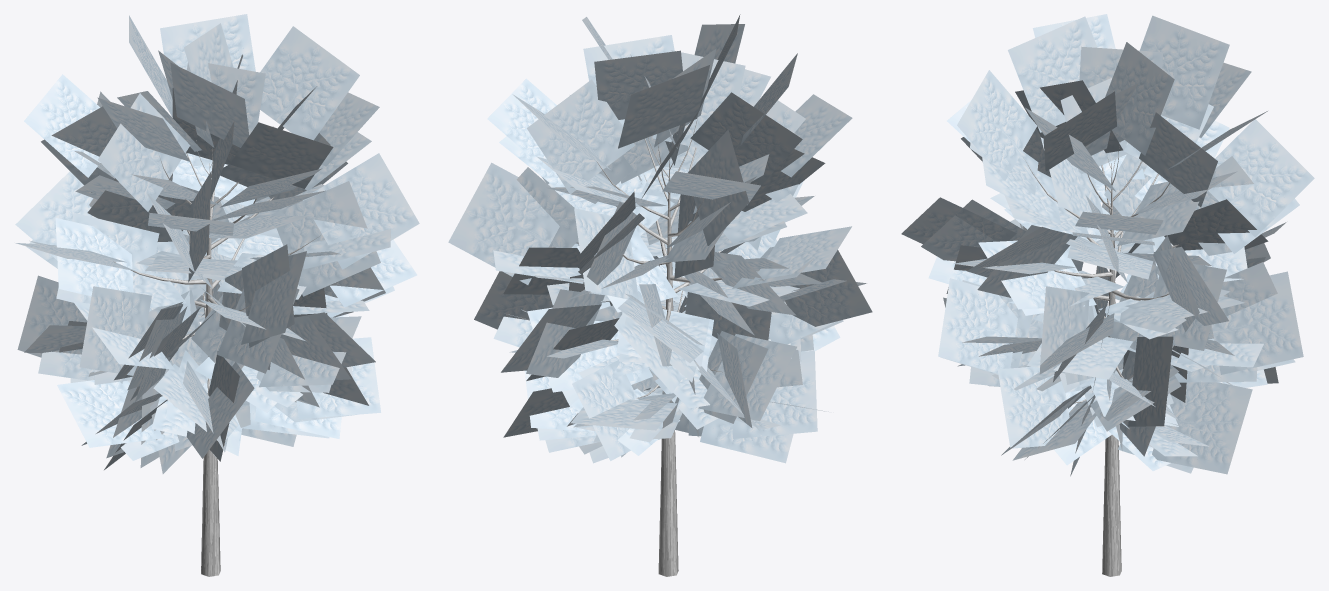
The model's file is Nature_tree01c.fbx.
3 renders of one model, left to right at view 1: azimuth 30°, elevation 25°; view 2: azimuth 150°, elevation 25°; view 3: azimuth 270°, elevation 25°, orthographic. The views are drawn at different scales.
Parts seen in each view (by area): view 1: leaves, tree; view 2: leaves, tree; view 3: leaves, tree.
Part boxes in pixels (x1,y1,x2,y2): leaves: (15, 14, 419, 473); tree: (114, 126, 319, 576); leaves: (448, 14, 872, 463); tree: (597, 118, 722, 576); leaves: (901, 14, 1314, 476); tree: (1024, 142, 1209, 576).
Bounding box in the file's own units: 2.92 × 4.3 × 3.04.
